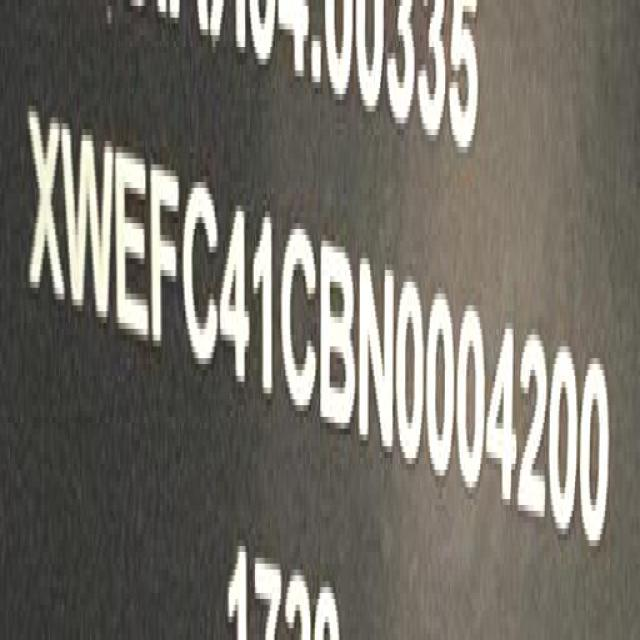0: (425, 285, 455, 494), (396, 265, 425, 472), (578, 357, 609, 546), (550, 348, 579, 539), (457, 302, 485, 494)
1: (252, 215, 274, 398)
2: (518, 326, 548, 531)
4: (216, 207, 253, 402), (487, 322, 518, 509)
B: (318, 226, 357, 442)
C: (278, 222, 318, 411), (181, 181, 219, 376)
E: (114, 137, 150, 348)
F: (150, 161, 182, 359)
N: (358, 252, 396, 459)
W: (61, 118, 114, 340)
X: (27, 106, 65, 322)
